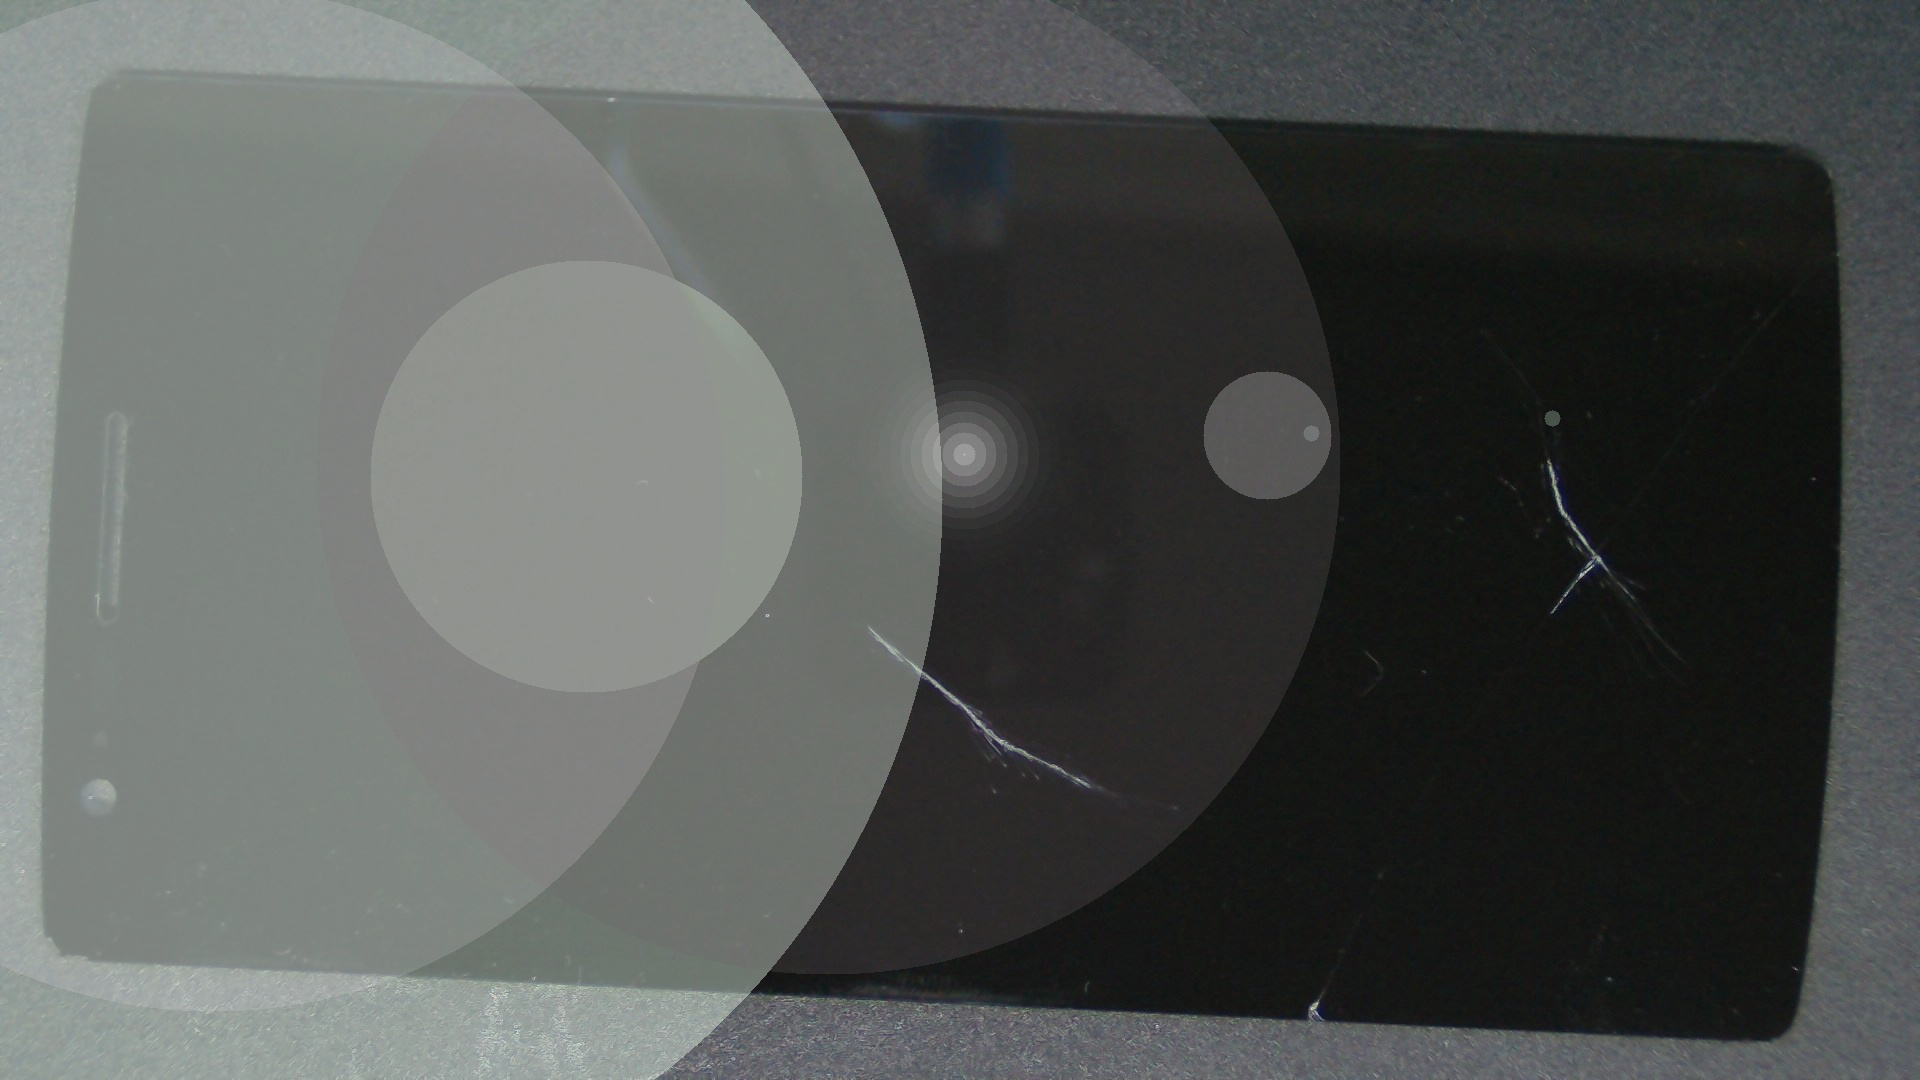oil: (433, 313, 1299, 938), (774, 228, 1920, 687)
